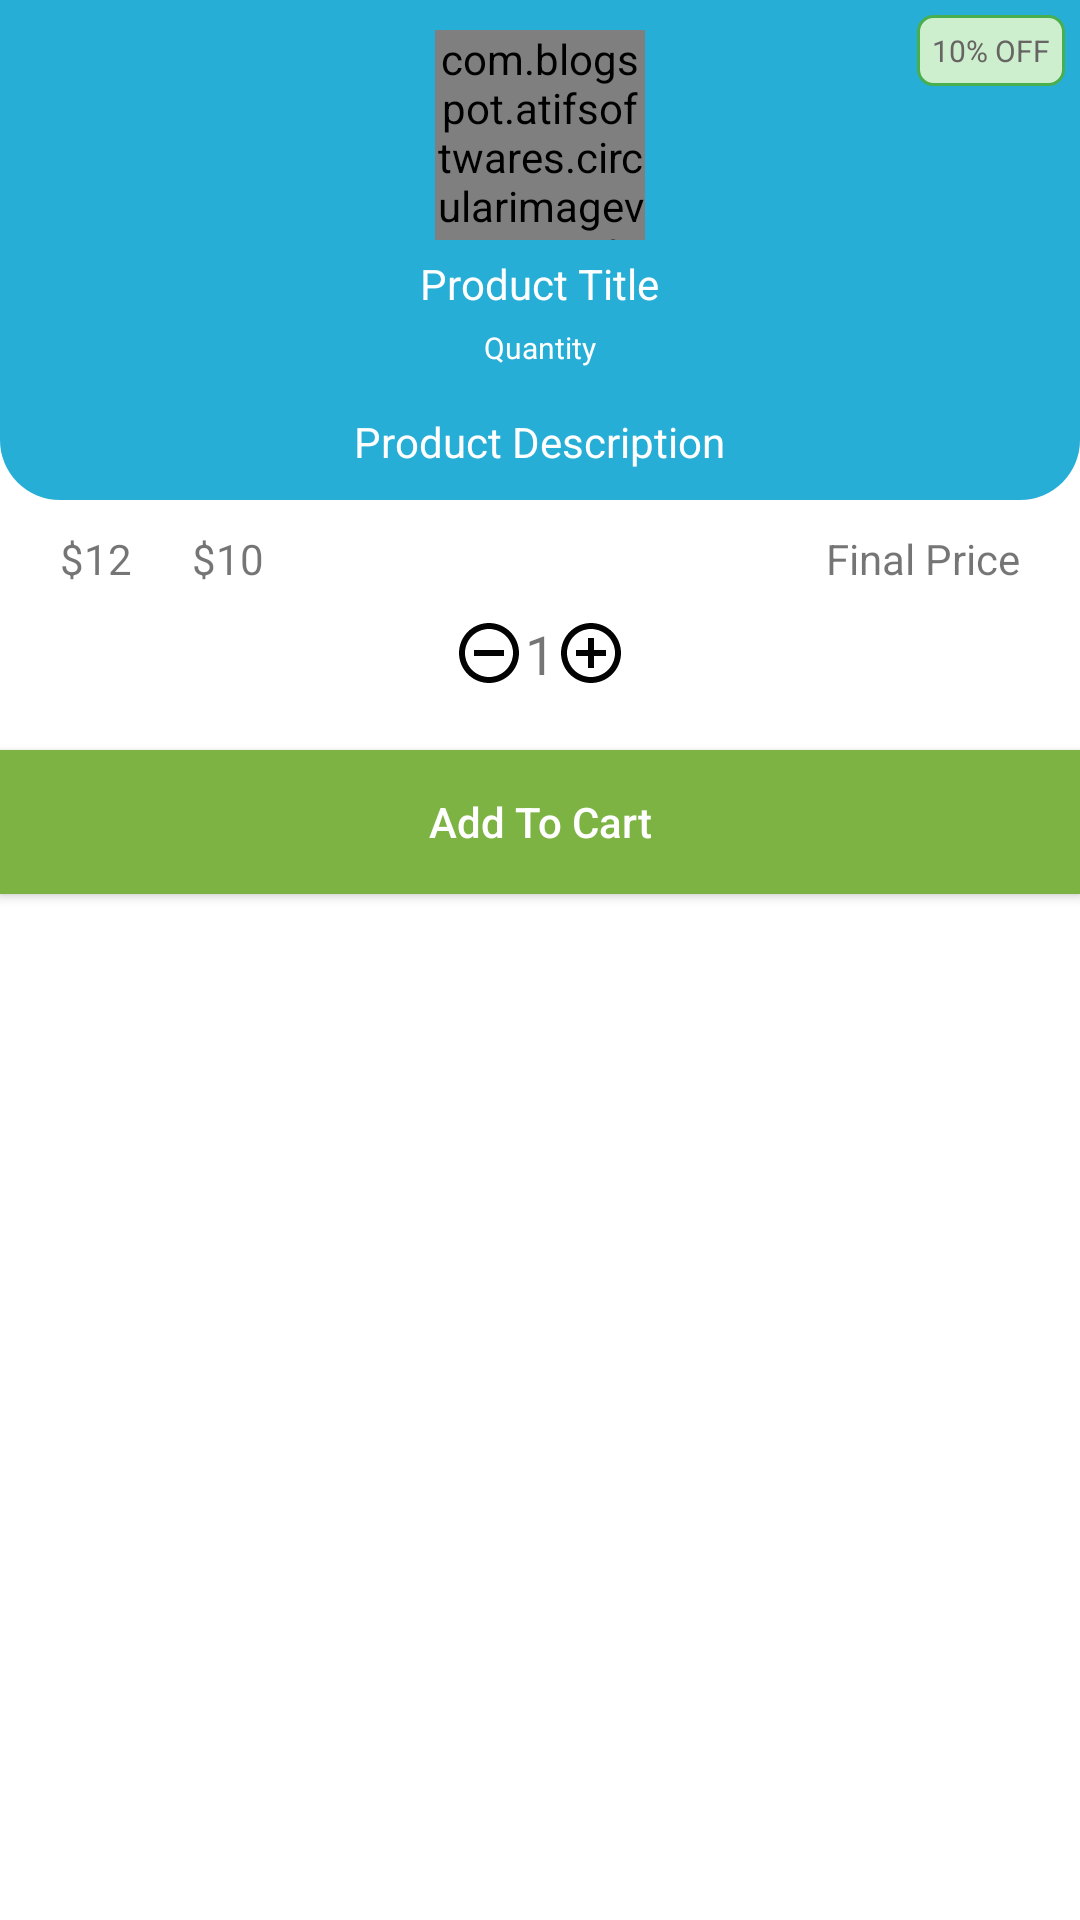

Locate icon controls on the screen. Image size 1080w x 1920h, boxes as region(x1, y1, x2, y2).
remove: region(459, 623, 519, 683)
